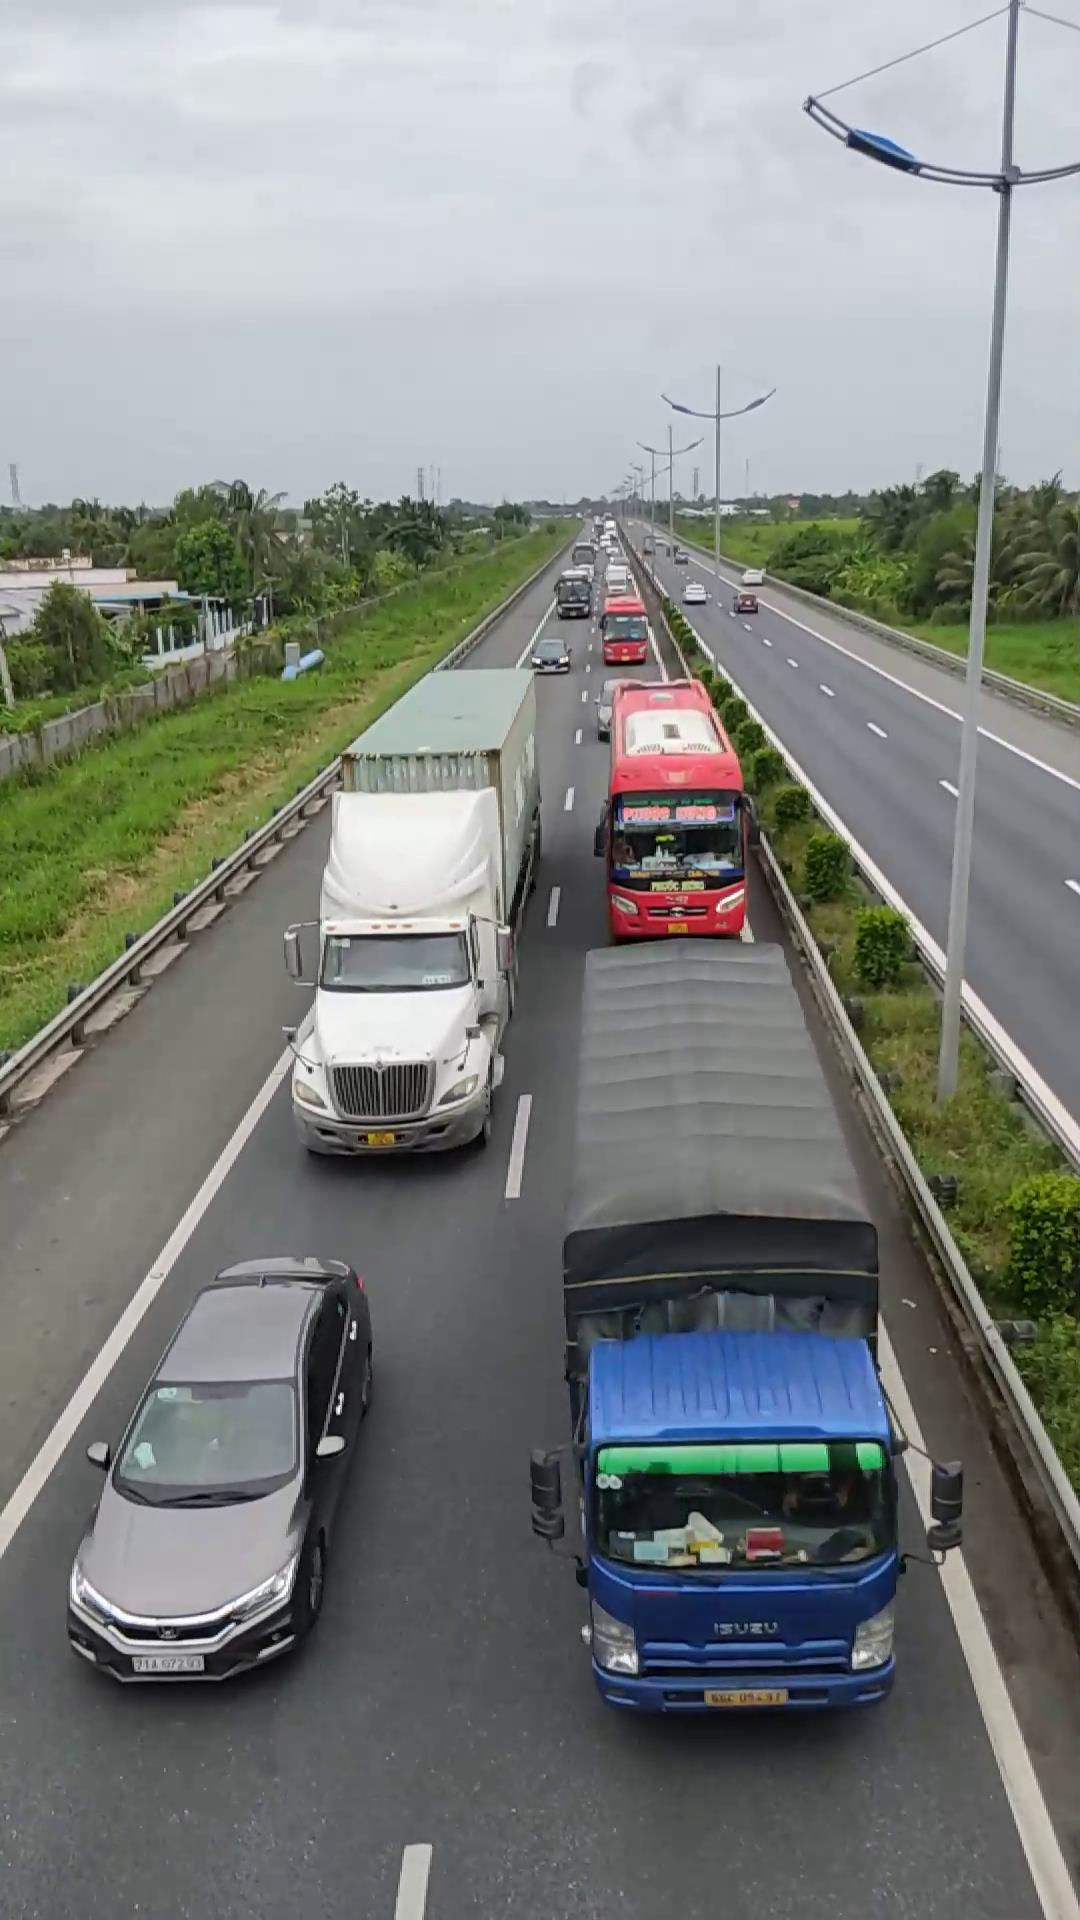bus: (596, 672, 754, 936)
car: (63, 1255, 376, 1682)
container: (290, 657, 543, 1159)
truck: (550, 946, 914, 1716)
